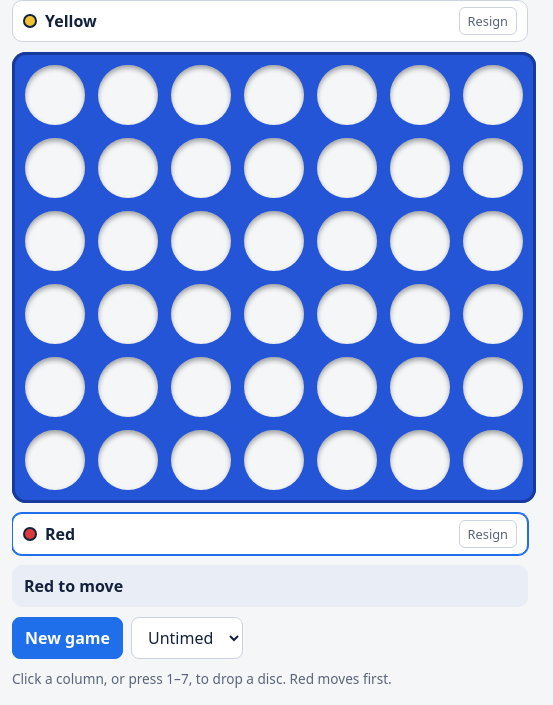
Test: ConnectFourGame › disables a full column
What coordinates should you click on to do the following:
click the button named "Column 1, 6 free"
I would click on:
 (55, 277)
Its box is [18,58,91,497].
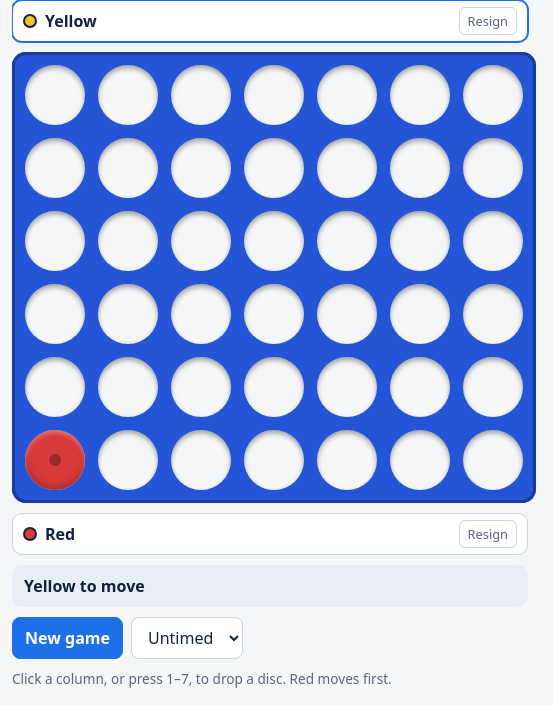
What coordinates should you click on to do the following:
click the button named "Column 1, 5 free"
I would click on:
 (55, 277)
Its box is [18,58,91,497].
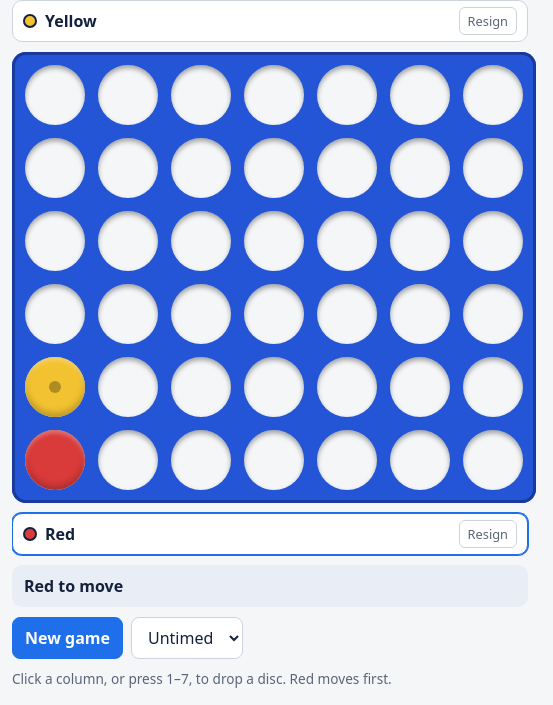
What coordinates should you click on to do the following:
click the button named "Column 1, 4 free"
I would click on:
 (55, 277)
Its box is [18,58,91,497].
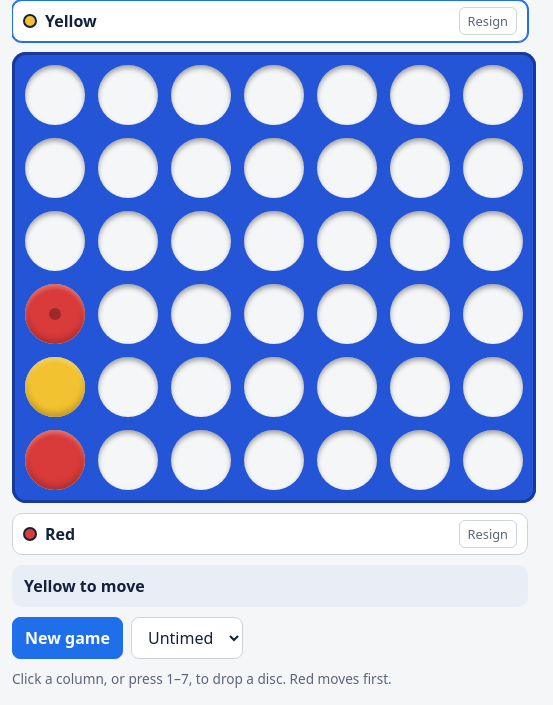
What coordinates should you click on to do the following:
click the button named "Column 1, 3 free"
I would click on:
 (55, 277)
Its box is [18,58,91,497].
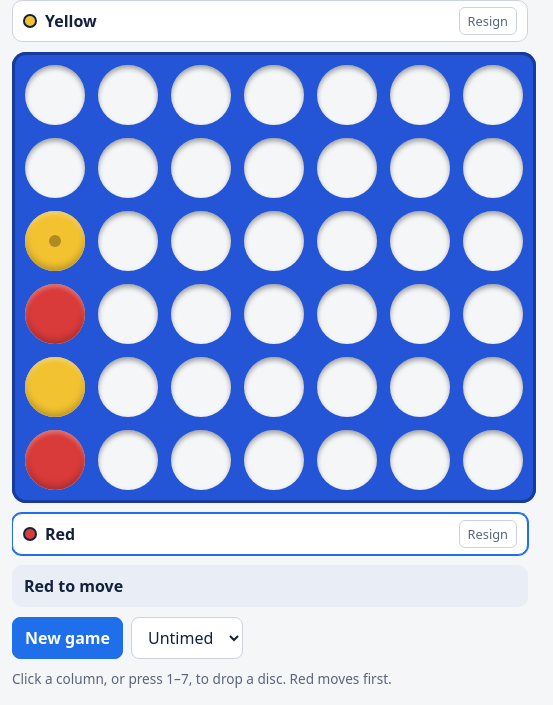
What coordinates should you click on to do the following:
click the button named "Column 1, 2 free"
I would click on:
 (55, 277)
Its box is [18,58,91,497].
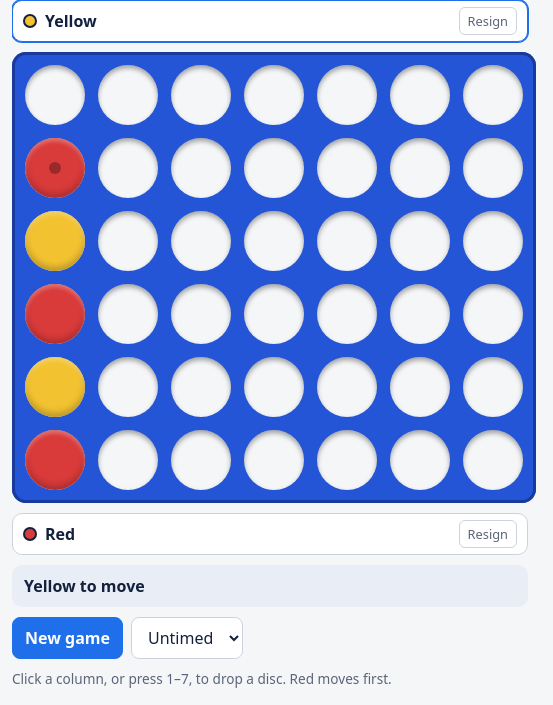
What coordinates should you click on to do the following:
click the button named "Column 1, 1 free"
I would click on:
 (55, 277)
Its box is [18,58,91,497].
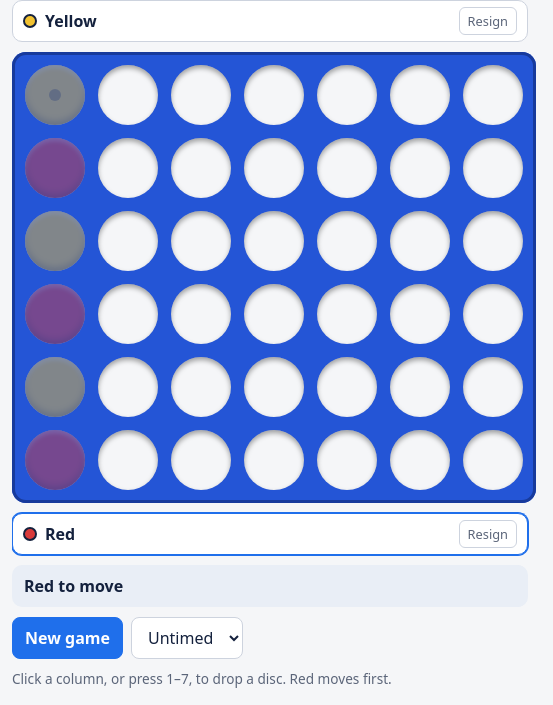
Check: the text "Red to move" is shown, box [12,565,528,607]
